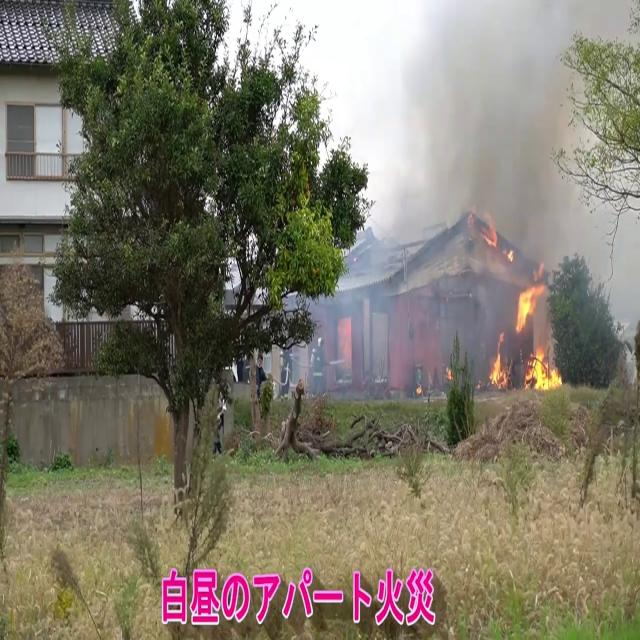Fire: (489, 270, 561, 393)
Smoke: (357, 1, 580, 363)
